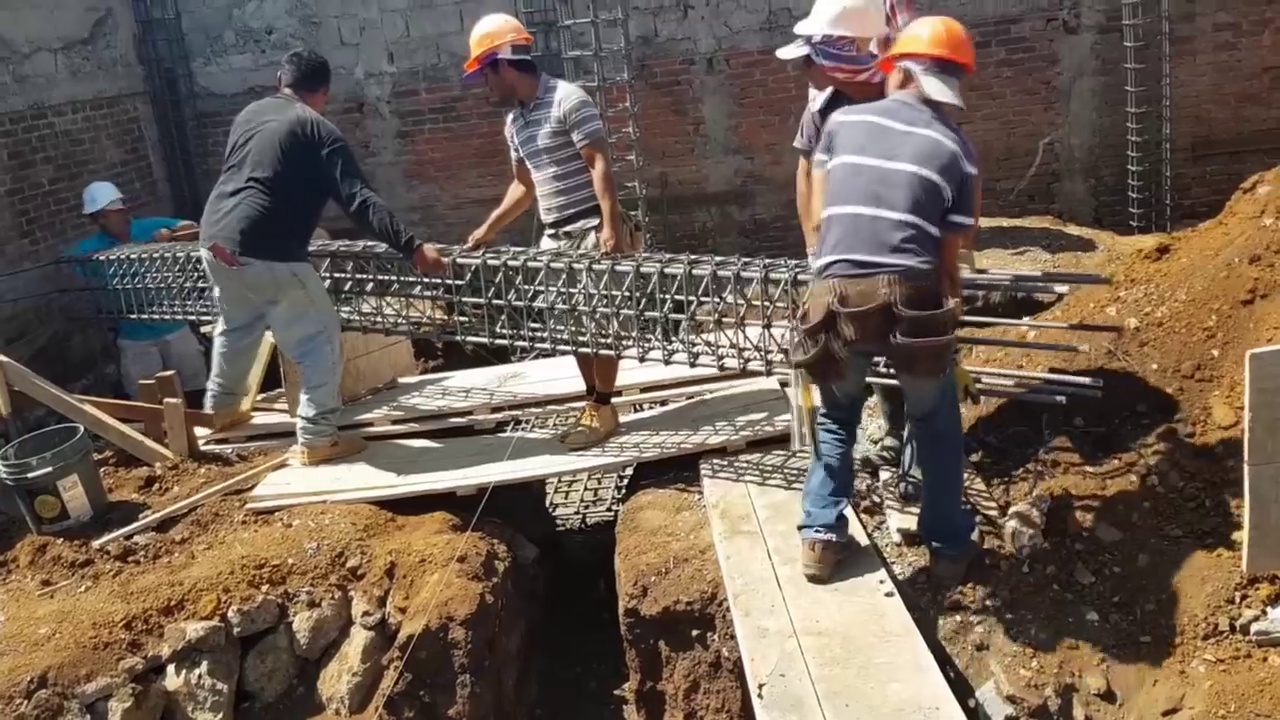helmet: (877, 9, 978, 83), (781, 0, 891, 45), (456, 12, 533, 76), (80, 179, 126, 220)
helmet-off: (275, 47, 333, 112)
helmet-on: (775, 0, 895, 97), (877, 7, 980, 115), (453, 11, 547, 116), (82, 181, 133, 244)
person: (786, 0, 998, 597), (194, 47, 452, 455), (452, 10, 637, 457), (75, 173, 199, 398)
